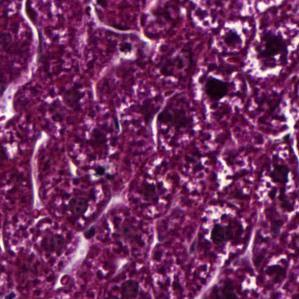inflammation: (197, 199, 252, 254), (148, 97, 201, 153), (244, 27, 292, 80), (215, 15, 256, 56)
